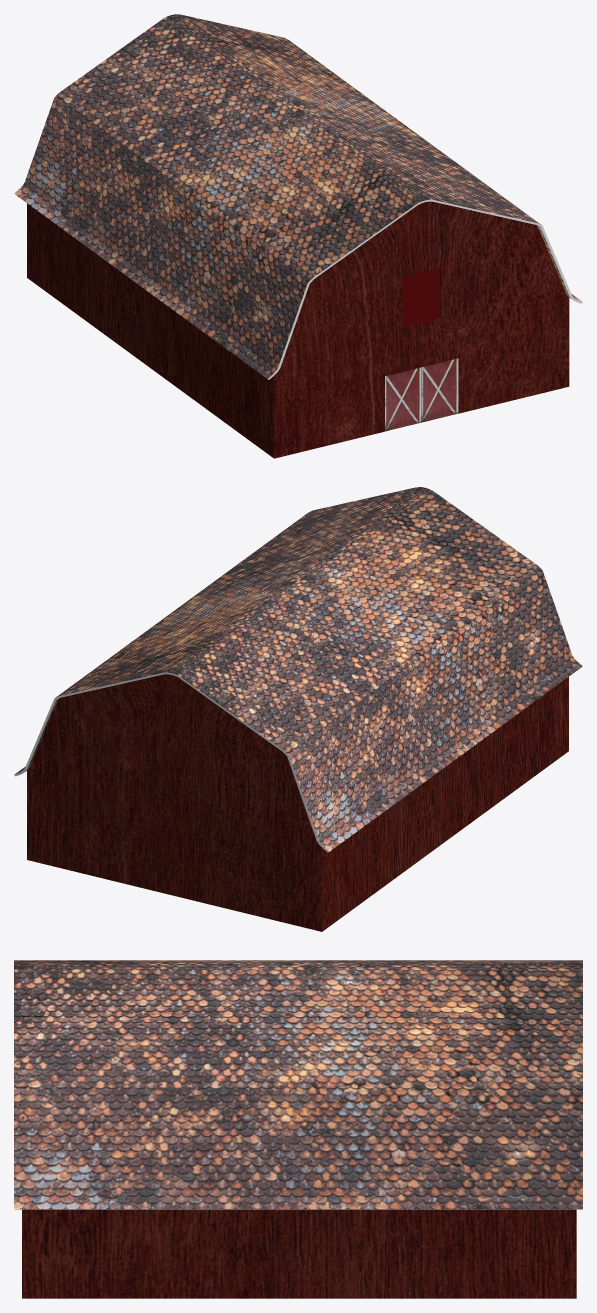
File: Barn.fbx
3 renders of one model, top to bottom at view 1: azimuth 30°, elevation 25°; view 2: azimuth 150°, elevation 25°; view 3: azimuth 270°, elevation 25°, orthographic. The views are drawn at different scales.
Parts seen in each view (by area): view 1: Barn; view 2: Barn; view 3: Barn.
Part boxes in pixels (<box>): Barn: <box>14,14,582,458</box>; Barn: <box>14,487,582,931</box>; Barn: <box>14,960,582,1298</box>.
Size of the model in its own units: 3827 by 2606 by 5323.
1 material, 1 textured.
